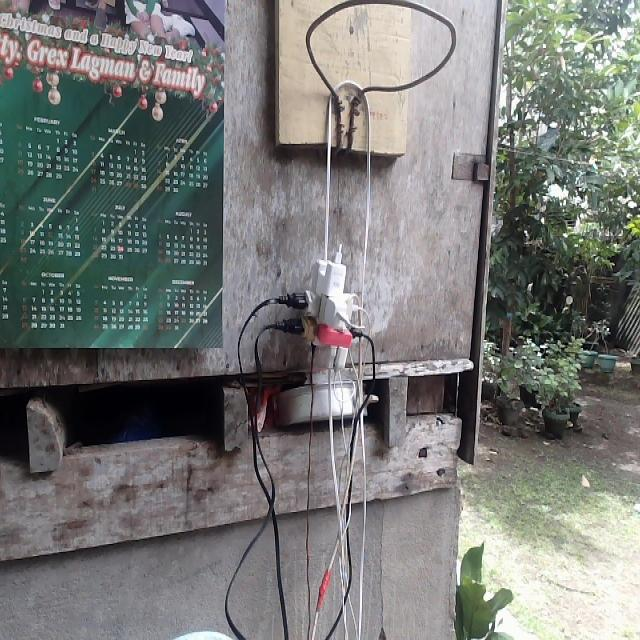-: (275, 239, 370, 372)
